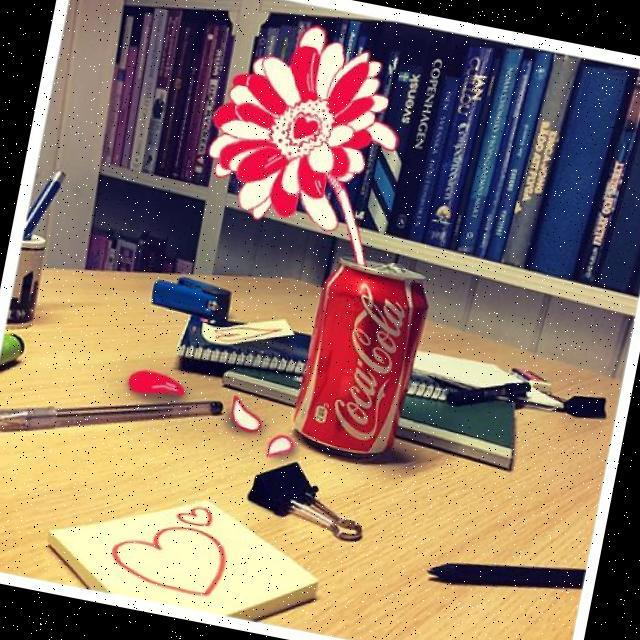coca-cola: (288, 250, 437, 467)
